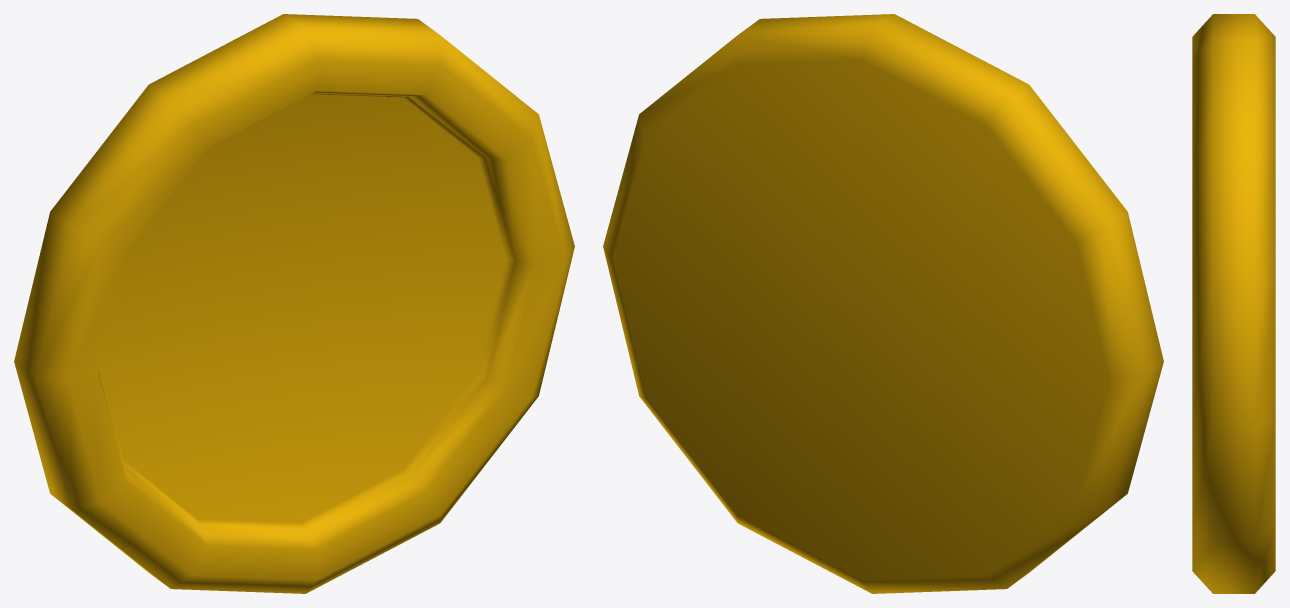
The model's file is Coin.fbx.
3 views of the same model, side by side, from view 1: azimuth 30°, elevation 25°; view 2: azimuth 150°, elevation 25°; view 3: azimuth 270°, elevation 25° (orthographic). The views are drawn at different scales.
Parts seen in each view (by area): view 1: Cylinder.029; view 2: Cylinder.029; view 3: Cylinder.029.
Part boxes in pixels (box(x1,y1,x2,y2)): Cylinder.029: box(14, 14, 574, 593); Cylinder.029: box(603, 14, 1163, 593); Cylinder.029: box(1192, 14, 1275, 593).
Size of the model in its own units: 73.85 by 73.85 by 10.53.
